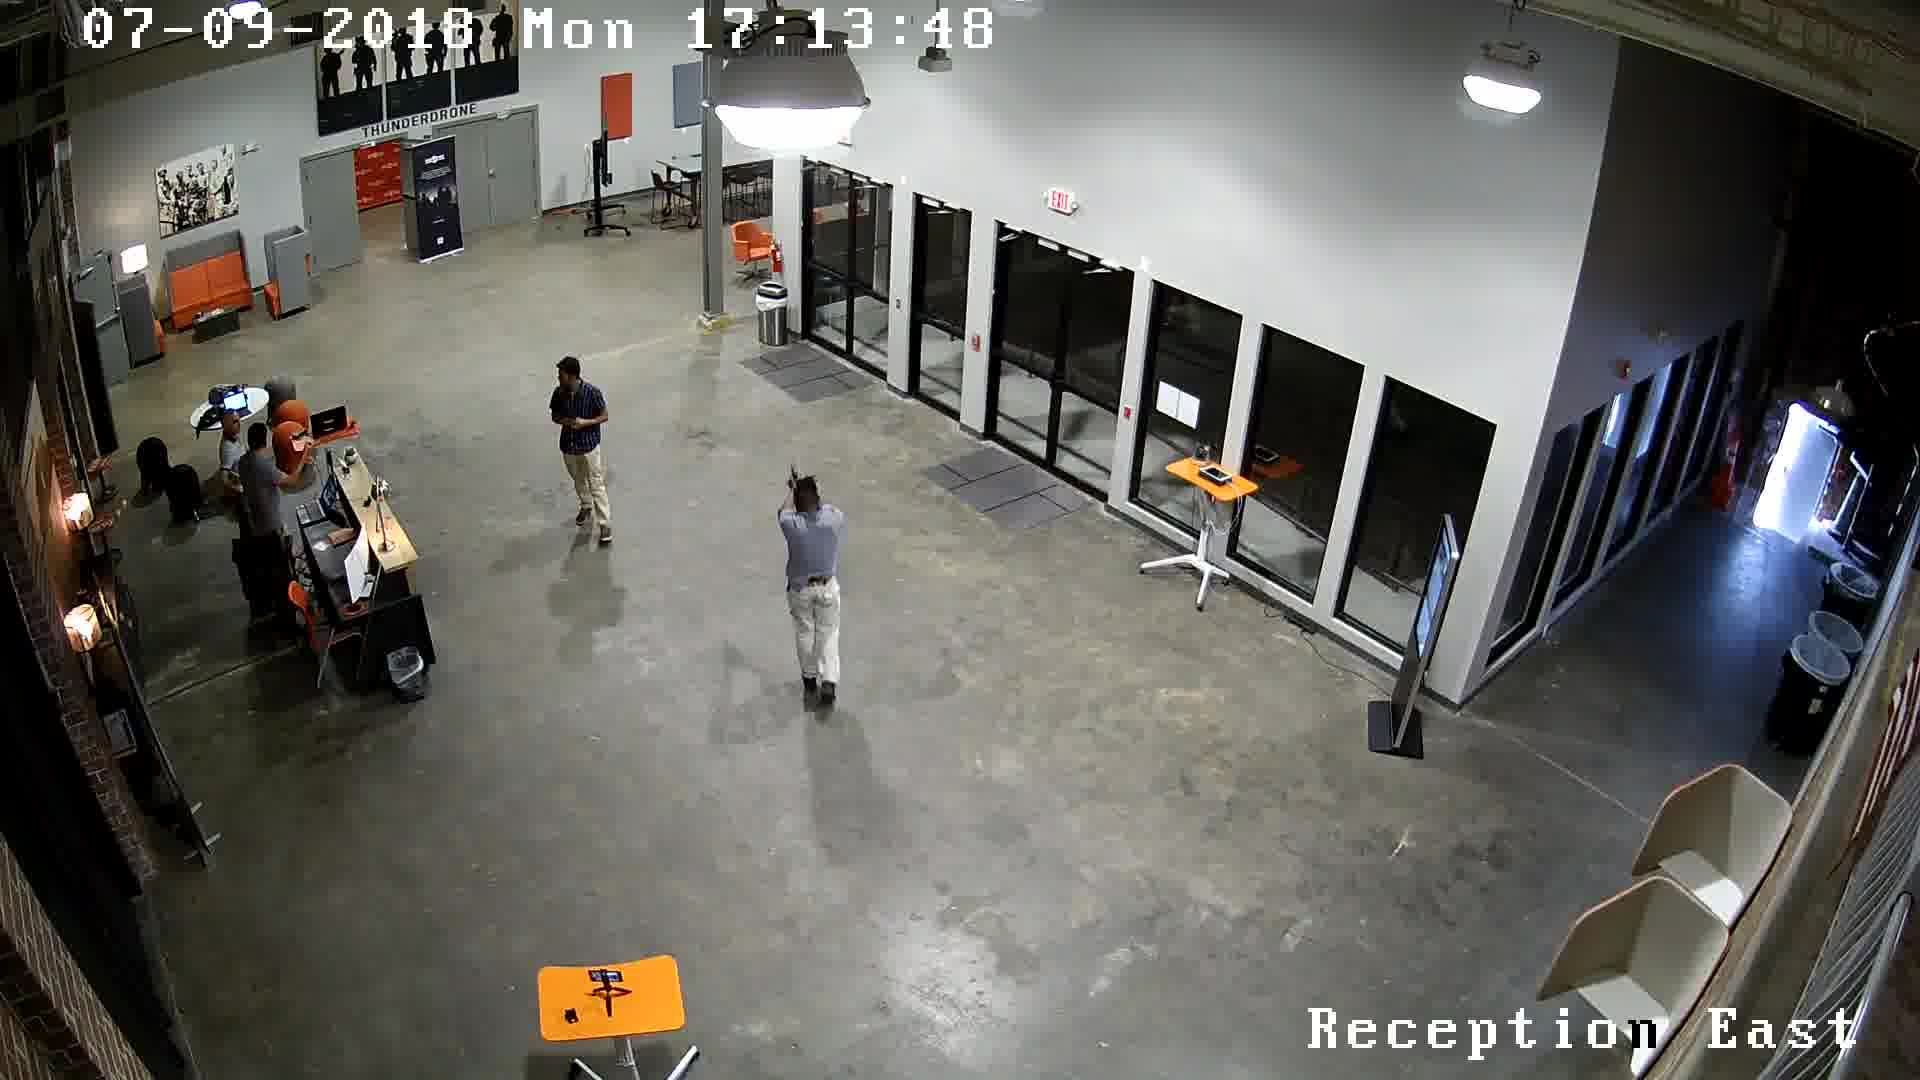pistol: (781, 459, 807, 502)
